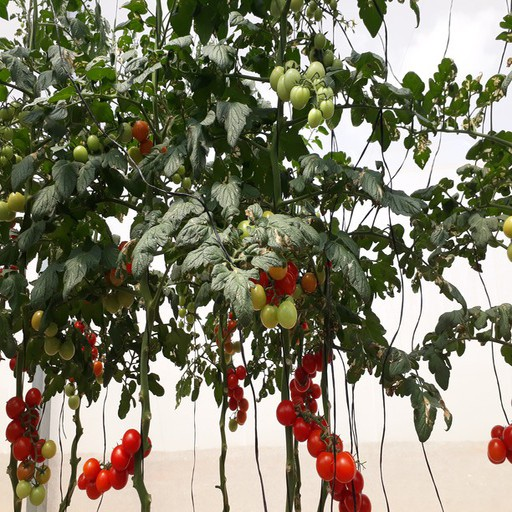green tomato bunch: (268, 60, 337, 126), (70, 120, 139, 160), (1, 98, 41, 167), (29, 311, 76, 361), (310, 31, 344, 68), (1, 194, 23, 222), (170, 165, 193, 190), (179, 292, 196, 325)
mixed tomato bunch: (238, 212, 325, 324), (7, 389, 54, 504), (66, 322, 103, 406), (103, 238, 140, 313), (213, 312, 241, 364)
red tomato bunch: (273, 399, 358, 480), (77, 429, 152, 500), (289, 339, 329, 412), (326, 471, 373, 512), (224, 367, 255, 424)
